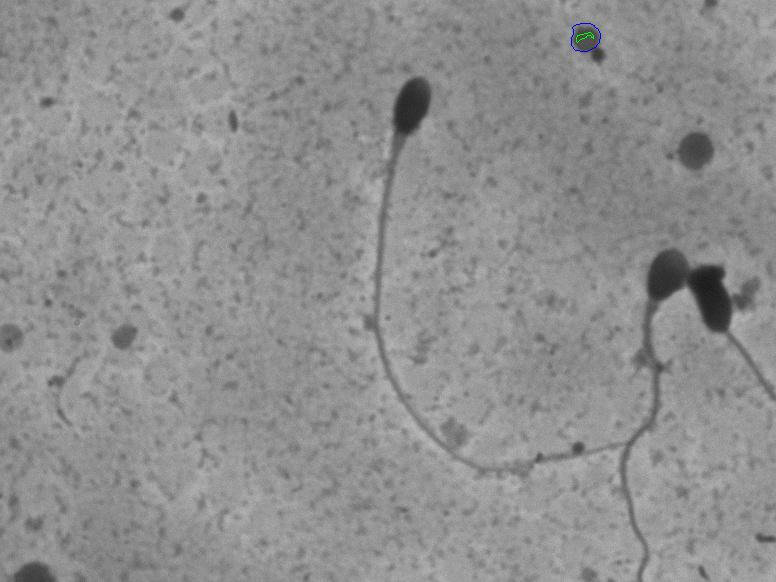Normal: (358, 59, 629, 481), (612, 235, 694, 569)
